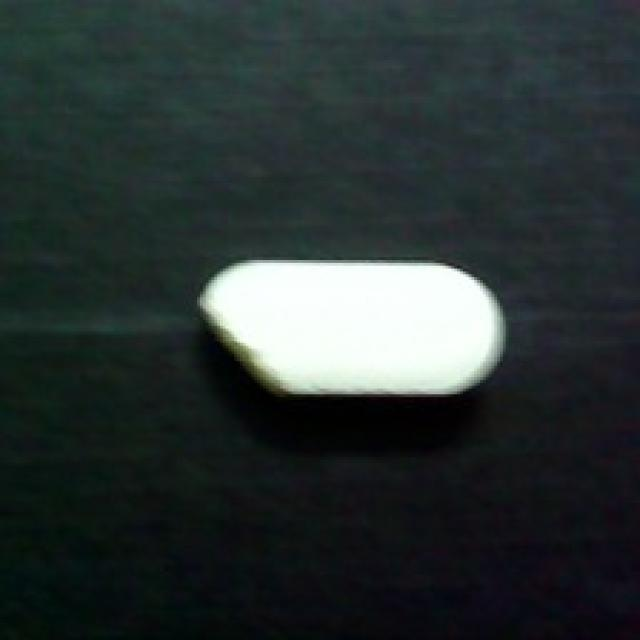defected: (180, 243, 517, 409)
